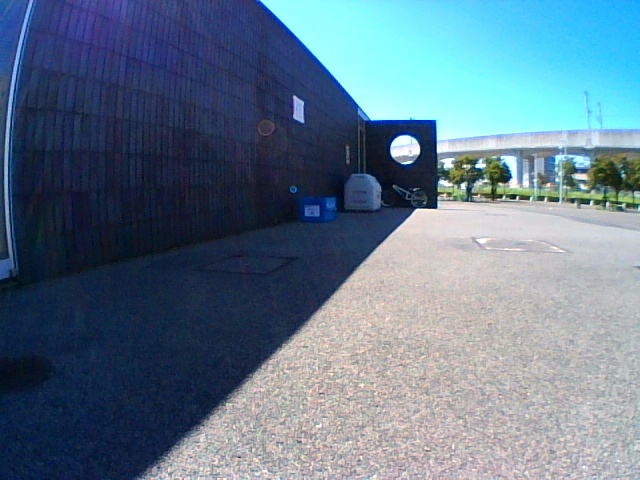blue_box: (302, 198, 335, 220)
tag: (304, 206, 318, 217)
